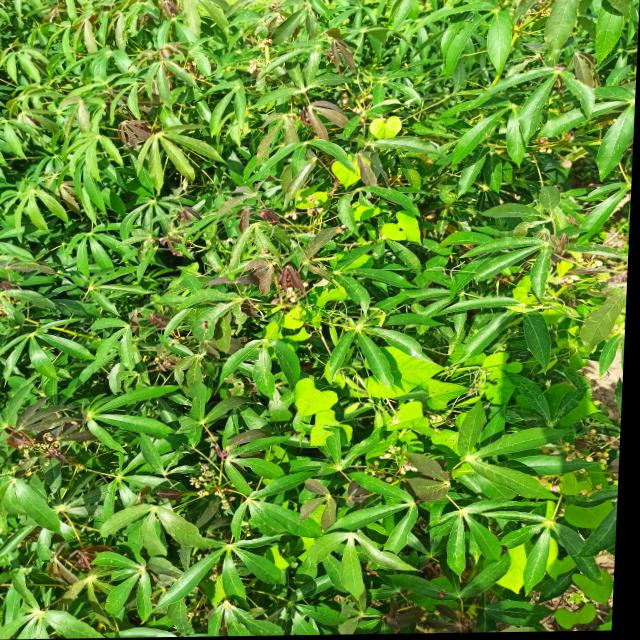Maleza: (371, 361, 463, 424), (292, 382, 343, 457), (378, 208, 431, 241), (476, 360, 516, 403), (369, 111, 407, 142)
Mosaico: (302, 92, 344, 138), (251, 262, 314, 292), (110, 109, 149, 149), (236, 209, 279, 232), (170, 205, 201, 224)
